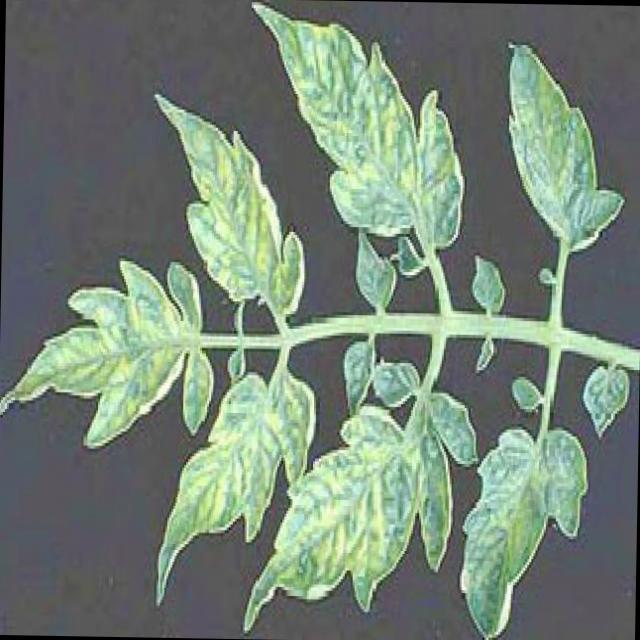Tomato yellow virus leaf: (244, 358, 478, 636), (249, 2, 467, 252), (0, 255, 213, 456), (152, 370, 320, 610), (152, 91, 307, 317), (460, 416, 589, 640), (502, 44, 625, 261)
